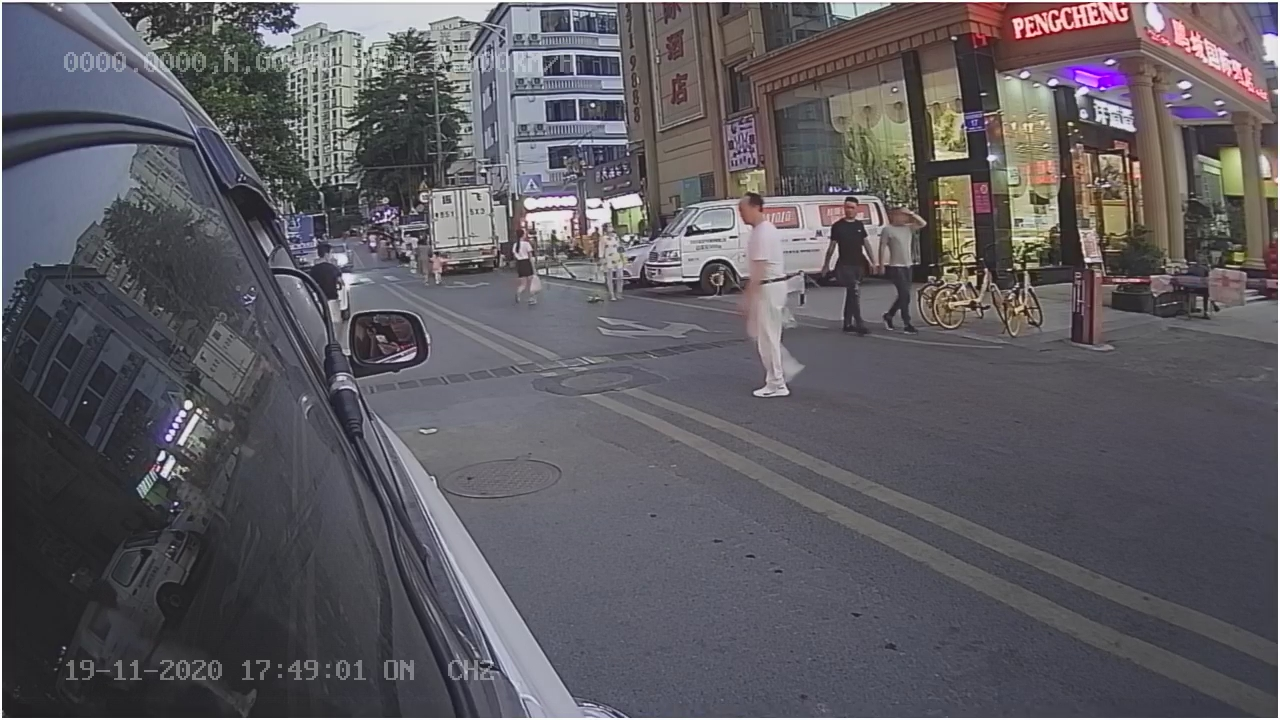person: (720, 189, 812, 404)
